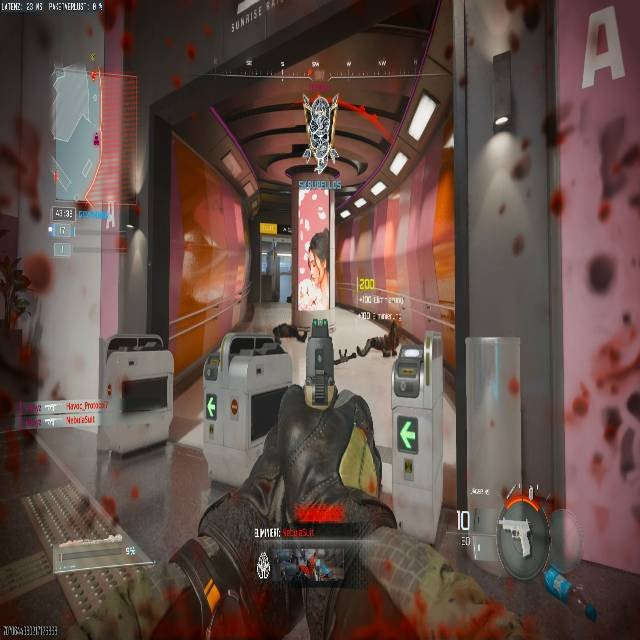head: (492, 115, 511, 134)
player: (362, 311, 419, 359)
